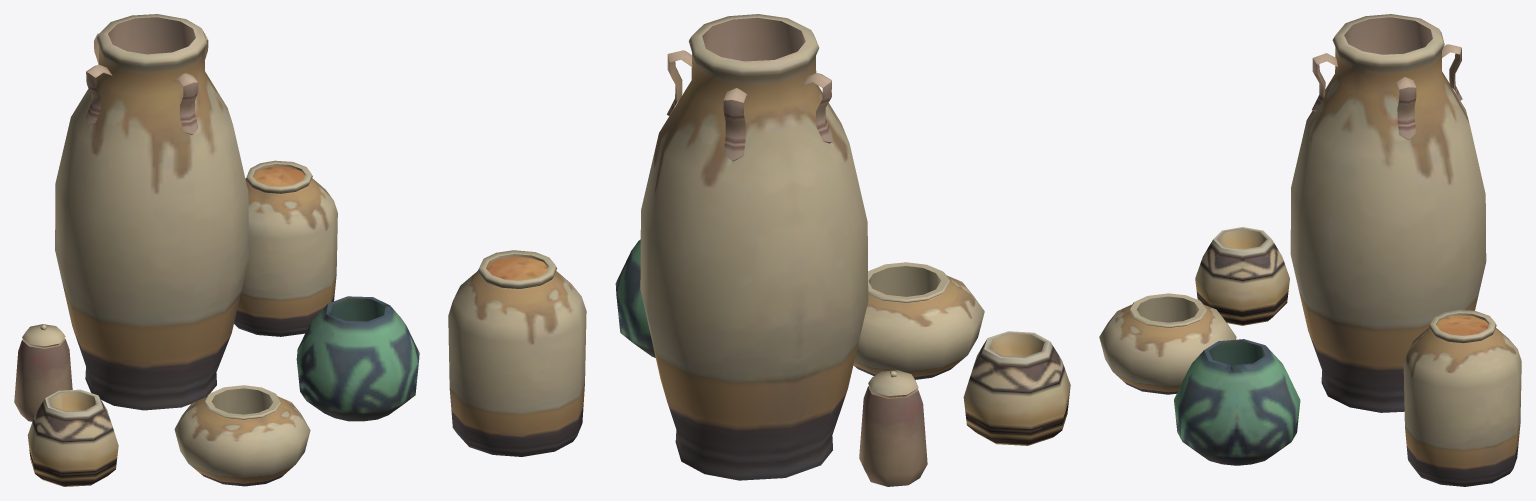
Rendered from Homeworld_Exterior_Common_Decoration_Vase_09_Lod0.fbx.
3 views of the same model, side by side, from view 1: azimuth 30°, elevation 25°; view 2: azimuth 150°, elevation 25°; view 3: azimuth 270°, elevation 25° (orthographic). The views are drawn at different scales.
Visible parts, largest first — view 1: Homeworld_Exterior_Common_Decoration_Vase_09_Lod0; view 2: Homeworld_Exterior_Common_Decoration_Vase_09_Lod0; view 3: Homeworld_Exterior_Common_Decoration_Vase_09_Lod0.
Boxes of the visible parts, x1,y1,x2,y2 form: Homeworld_Exterior_Common_Decoration_Vase_09_Lod0: [14, 14, 419, 486]; Homeworld_Exterior_Common_Decoration_Vase_09_Lod0: [448, 14, 1070, 486]; Homeworld_Exterior_Common_Decoration_Vase_09_Lod0: [1099, 14, 1521, 486].
Bounding box in the file's own units: 1.45 × 1.18 × 1.29.
